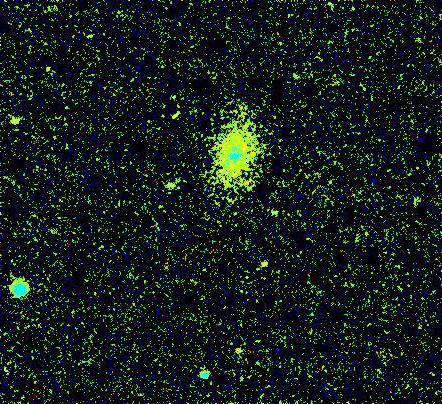star: (2, 106, 32, 136)
